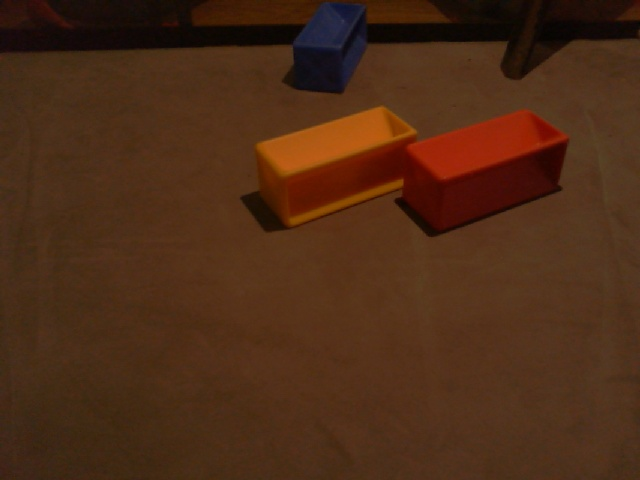BlueSample: (290, 2, 367, 95)
RedSample: (402, 108, 570, 233)
YellowSample: (251, 103, 420, 229)
